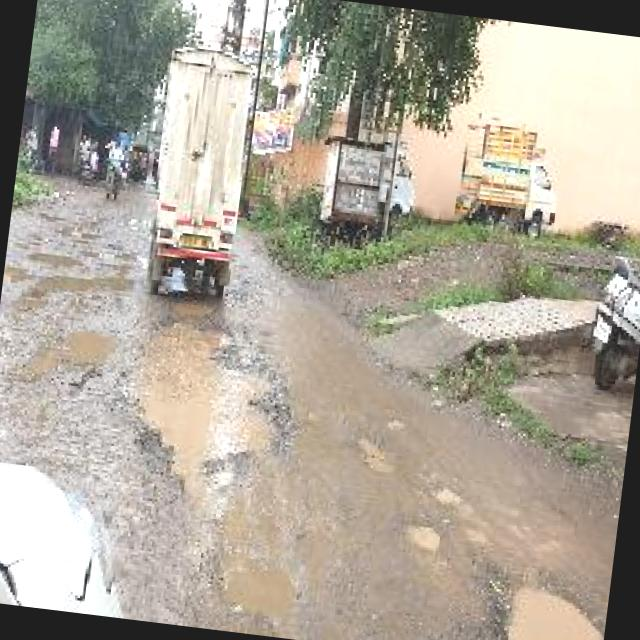stagnation: (117, 304, 270, 478), (494, 572, 609, 640)
